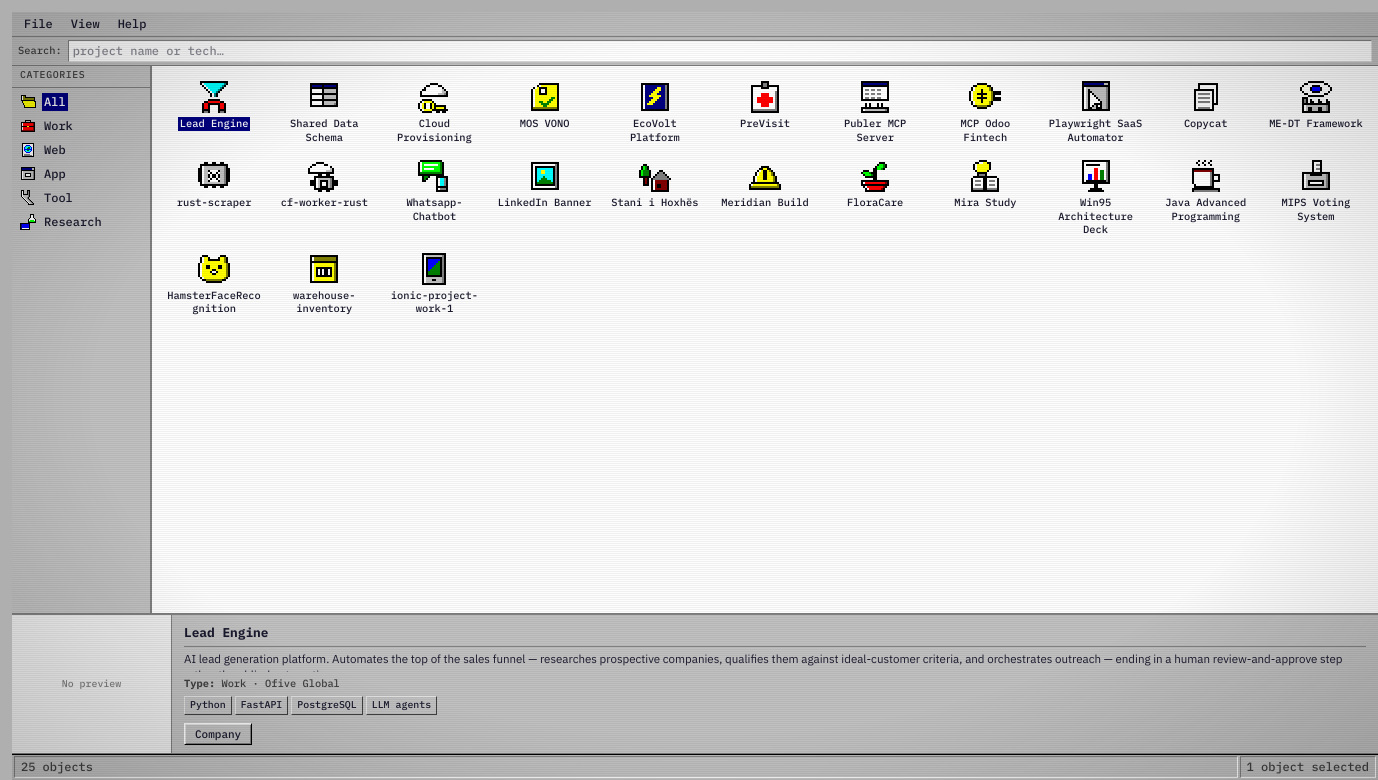
Test: MyWorkExplorer status bar › keeps the second panel present and empty when nothing is selected
Step 1. Type "zzzznothing" into the field named "search projects" → (720, 51), box [68, 40, 1372, 62]
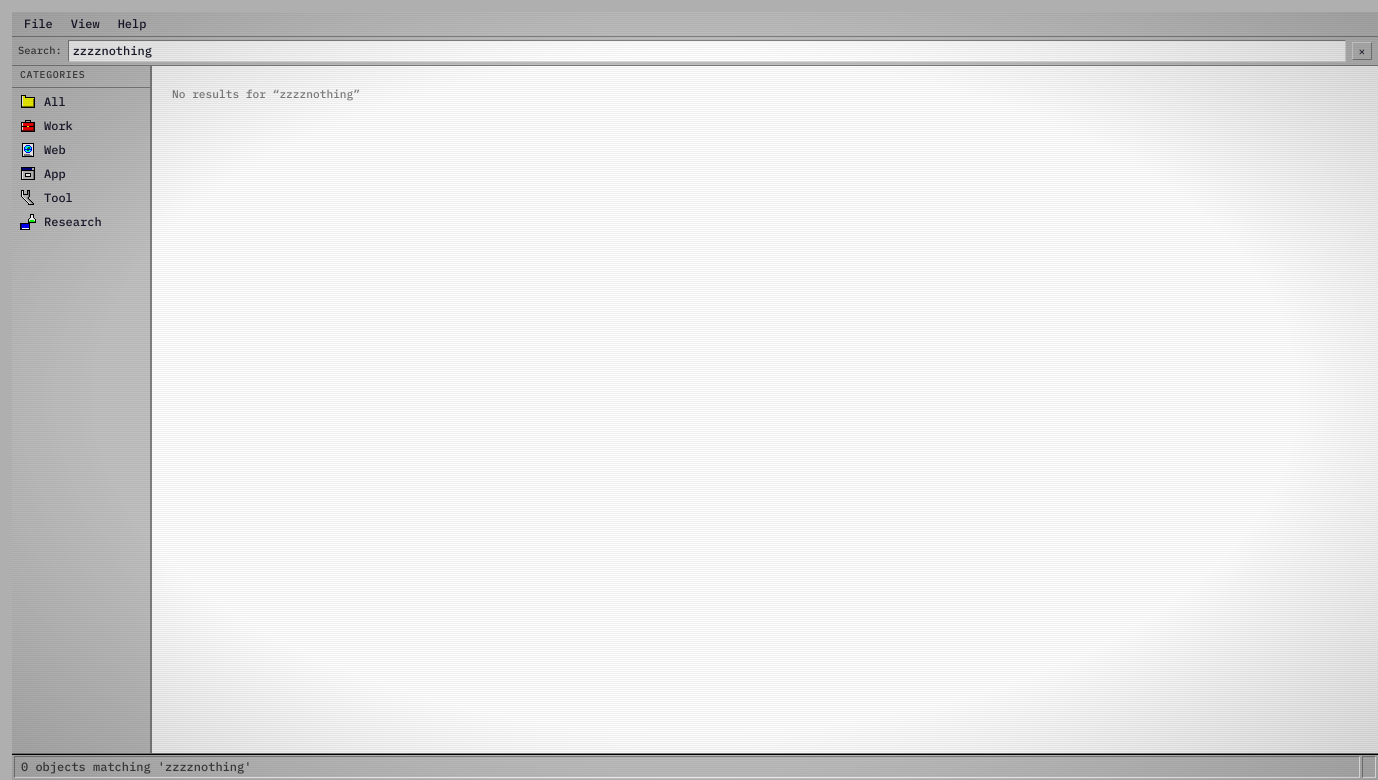
Expected: the text with class "explorer-statusbar__panel" reads "0 objects matching 'zzzznothing'", [21, 759, 251, 774]
Expected: the element with class "explorer-statusbar__panel" is empty, [1362, 756, 1376, 778]
